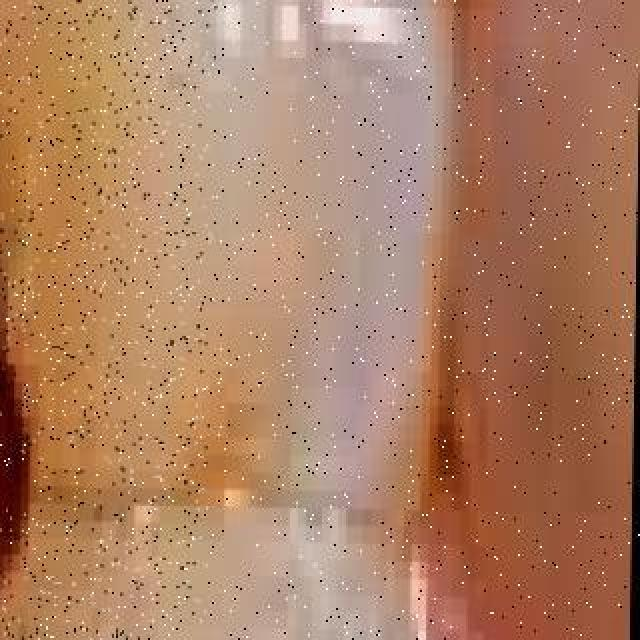cavities: (0, 0, 204, 640)
